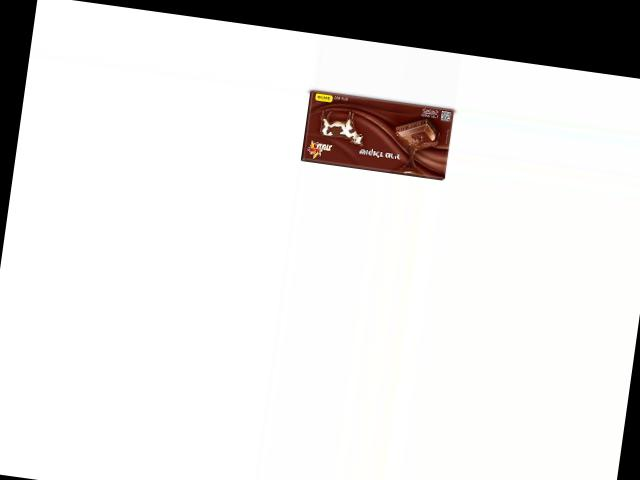chocolate: (297, 88, 452, 181)
